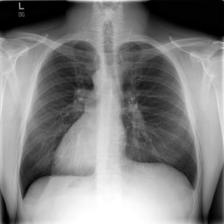normal: (11, 34, 204, 211)
